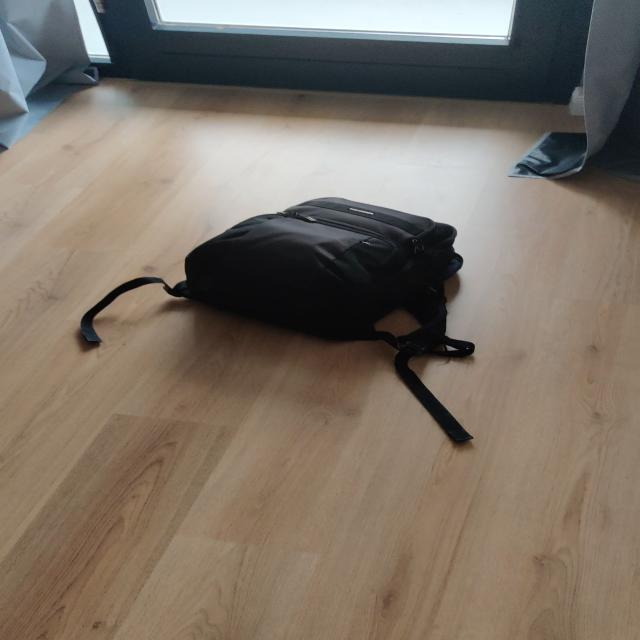backpack: (160, 194, 474, 344)
